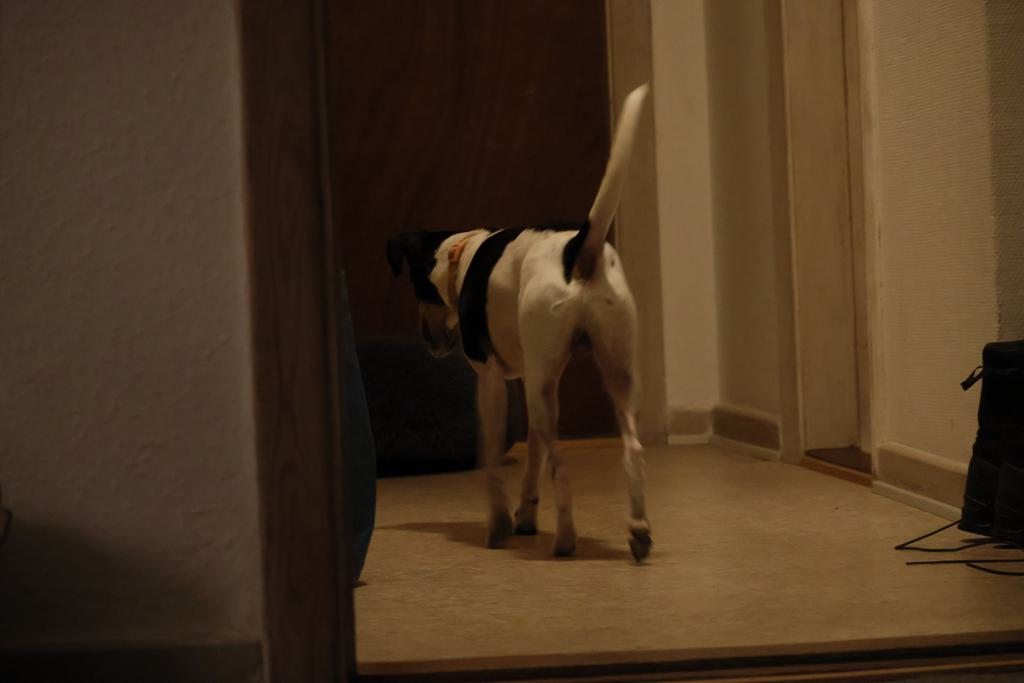Dog: (389, 78, 681, 577)
